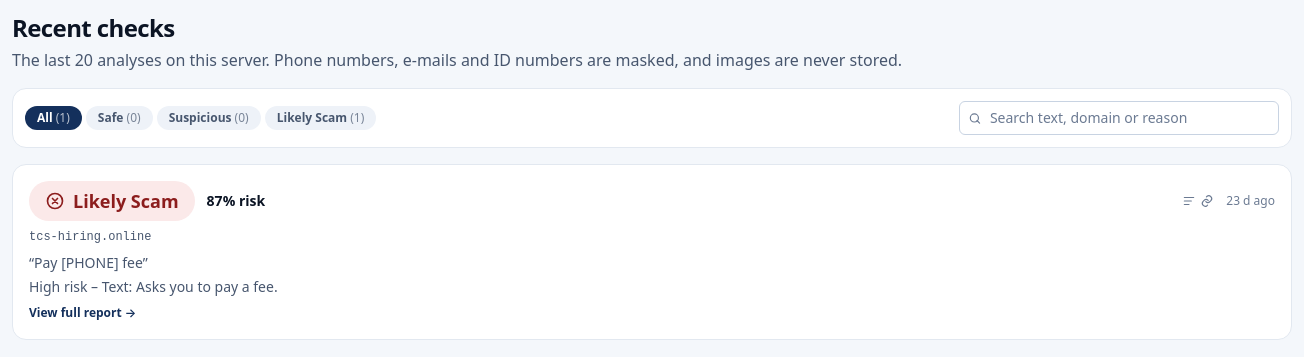
HistoryPage › shows an error when a detail cannot be loaded
The width and height of the screenshot is (1304, 357).
Click the button with aria-label "Open full report".
click(652, 252)  # box x1=12 y1=164 x2=1292 y2=340
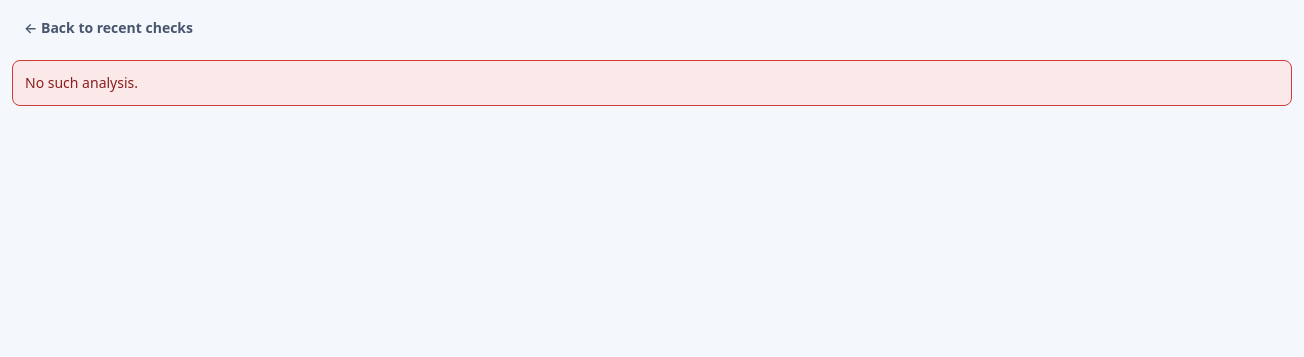
Now the message reads "No such analysis.", box x1=25 y1=73 x2=138 y2=92
